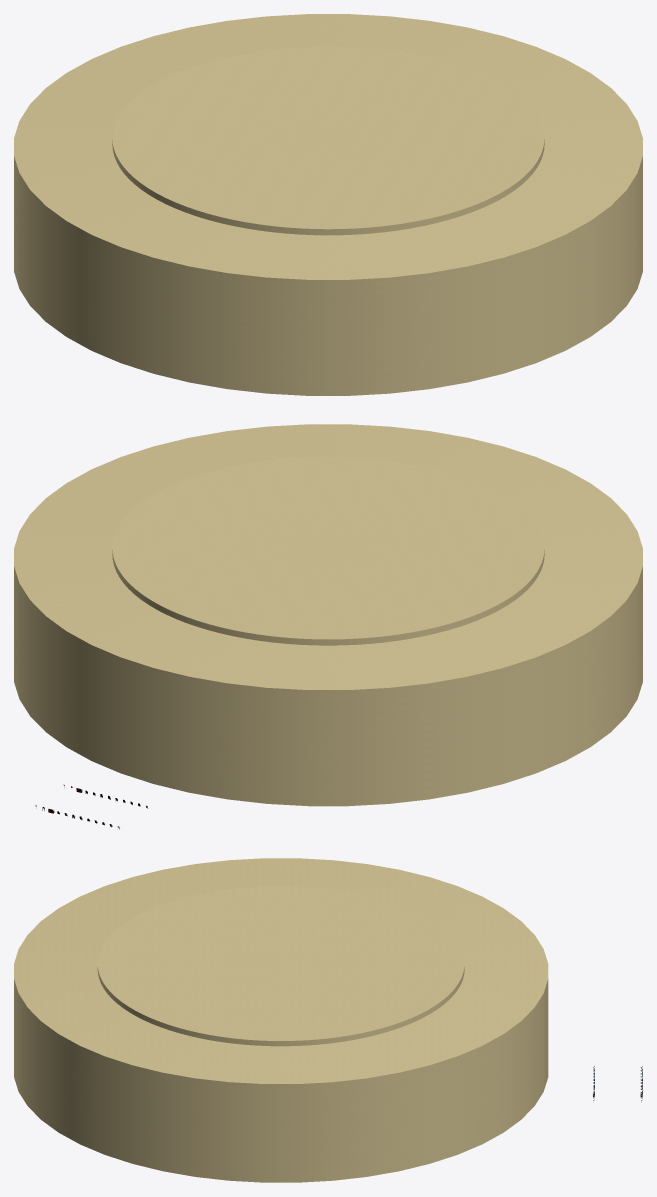
File: MSG_Basketball_converted.glb
3 views of the same model, one above another, from view 1: azimuth 30°, elevation 25°; view 2: azimuth 150°, elevation 25°; view 3: azimuth 270°, elevation 25° (orthographic). The views are drawn at different scales.
Parts seen in each view (by area): view 1: Side Walls, Roof, Roof Center; view 2: Side Walls, Roof, Roof Center; view 3: Side Walls, Roof, Roof Center.
Boxes of the visible parts, x1,y1,x2,y2 form: Side Walls: (14,157,642,395); Roof: (14,14,642,280); Roof Center: (112,46,544,235); Side Walls: (14,567,642,806); Roof: (14,424,642,690); Roof Center: (112,456,544,645); Side Walls: (14,980,548,1182); Roof: (14,858,548,1084); Roof Center: (97,886,464,1046).
Bounding box in the file's own units: 145 × 31.85 × 171.
61 materials, 26 textured.
